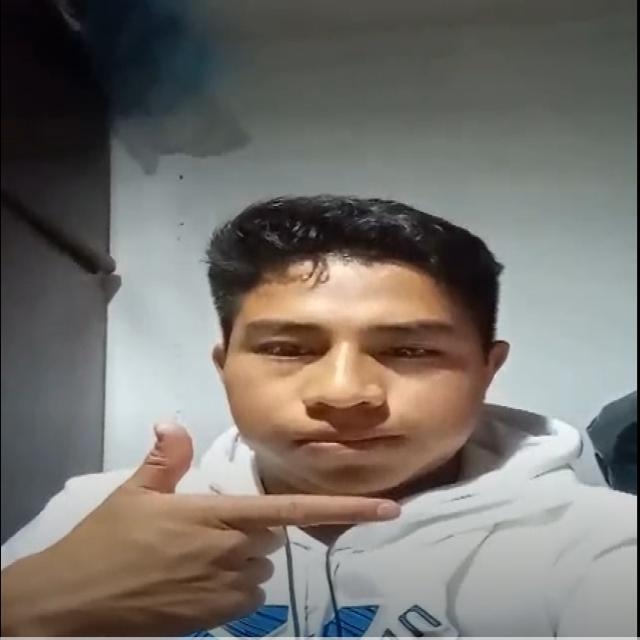G: (32, 387, 394, 640)
